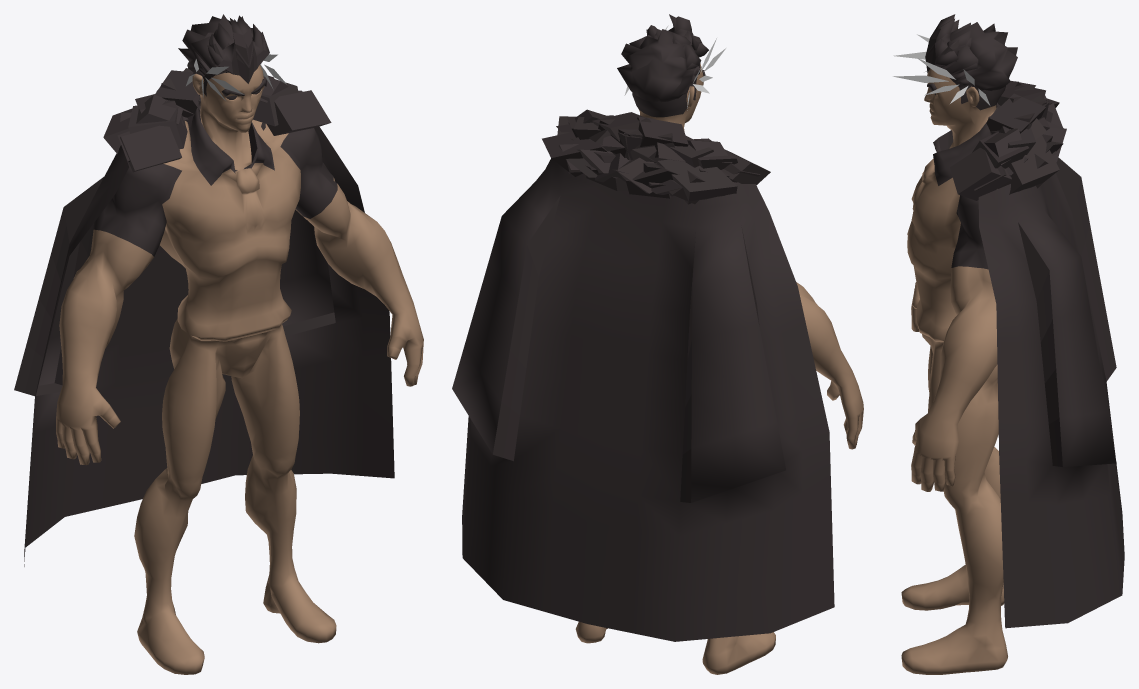
Rendered from MaleCharacter.fbx.
3 renders of one model, left to right at view 1: azimuth 30°, elevation 25°; view 2: azimuth 150°, elevation 25°; view 3: azimuth 270°, elevation 25°, orthographic.
Parts seen in each view (by area): view 1: Deco.Head; view 2: Deco.Head; view 3: Deco.Head.
Boxes of the visible parts, x1=… form: Deco.Head: x1=14, y1=14, x2=423, y2=674; Deco.Head: x1=452, y1=14, x2=863, y2=674; Deco.Head: x1=893, y1=14, x2=1124, y2=674.
Bounding box in the file's own units: 866 × 473 × 1393.
